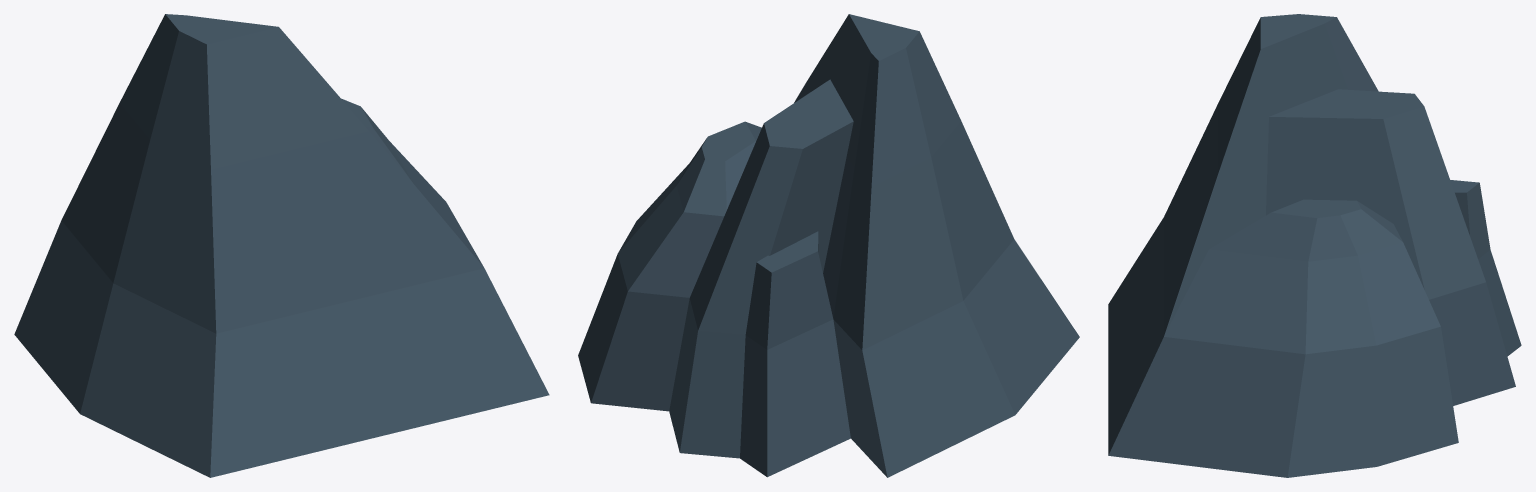
The model's file is rock2.gltf.
3 renders of one model, left to right at view 1: azimuth 30°, elevation 25°; view 2: azimuth 150°, elevation 25°; view 3: azimuth 270°, elevation 25°, orthographic. The views are drawn at different scales.
Visible parts, largest first — view 1: Rock 15_525; view 2: Rock 15_525; view 3: Rock 15_525.
Part boxes in pixels (x1,y1,x2,y2): Rock 15_525: (14,14,549,477); Rock 15_525: (578,14,1079,477); Rock 15_525: (1108,14,1521,477).
Bounding box in the file's own units: 1.73 × 1.39 × 1.61.
